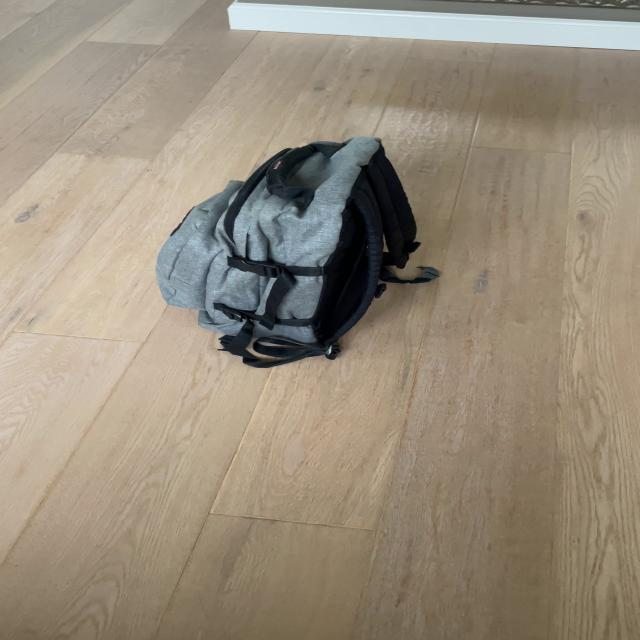backpack: (145, 127, 426, 373)
